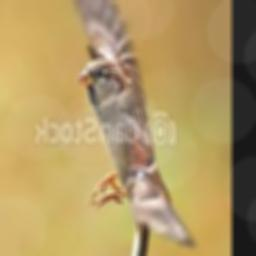Sparrow: (70, 0, 197, 256)
